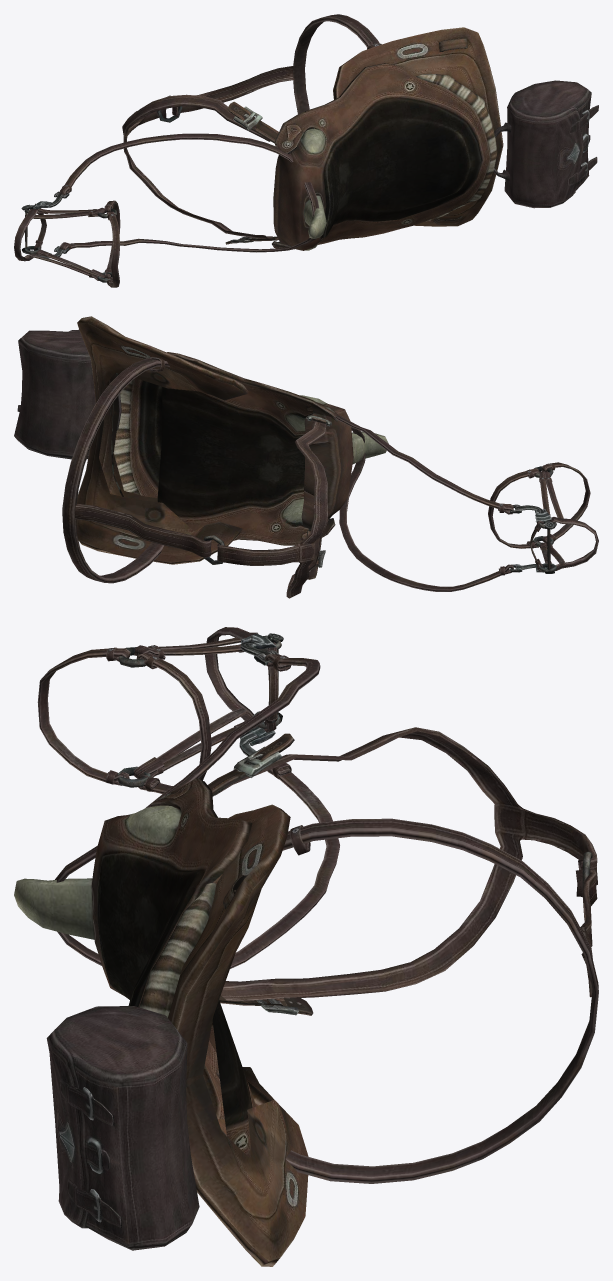
The model's file is horse-saddle-bridle.glb.
The picture shows the model from 3 angles, top to bottom: view 1: azimuth 30°, elevation 25°; view 2: azimuth 150°, elevation 25°; view 3: azimuth 270°, elevation 25°; orthographic projection. The views are drawn at different scales.
Parts seen in each view (by area): view 1: Object_8; view 2: Object_8; view 3: Object_8.
Boxes of the visible parts, x1,y1,x2,y2 form: Object_8: (14, 14, 598, 287); Object_8: (14, 316, 598, 598); Object_8: (14, 627, 598, 1266).
Size of the model in its own units: 1.83 by 0.6415 by 0.8796.
1 material, 1 textured.
